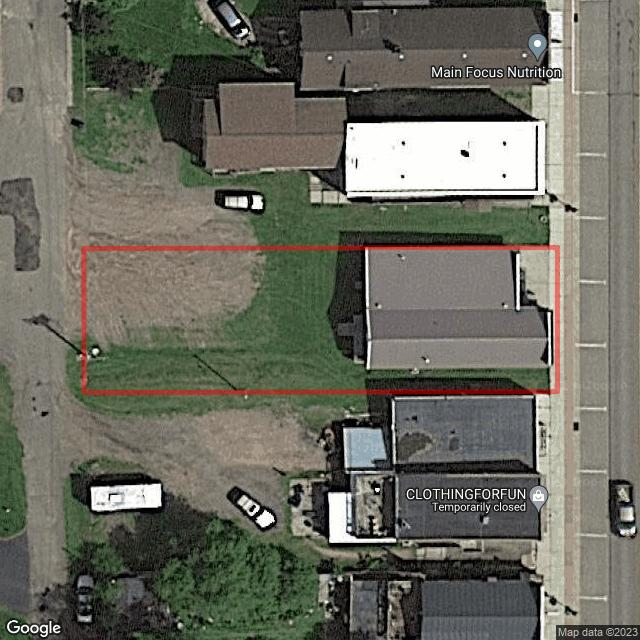Extra Lawn: (60, 245, 81, 395)
House: (367, 250, 553, 370)
Sidewalk: (338, 317, 364, 363)
